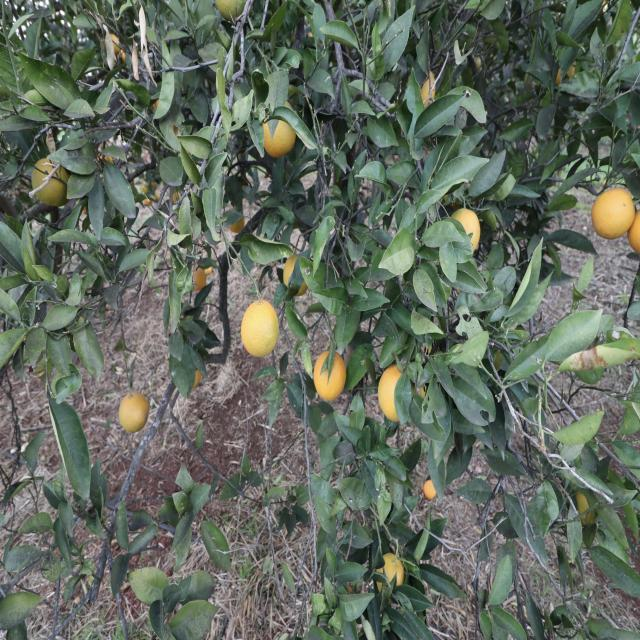Jeruk Belum Matang: (32, 160, 68, 204), (216, 0, 246, 18)
Jeruk Sudah Matang: (241, 297, 280, 358), (593, 188, 635, 238), (262, 100, 298, 157), (312, 352, 346, 402), (378, 364, 403, 420), (118, 390, 149, 433), (452, 206, 480, 251), (378, 553, 404, 596), (284, 254, 308, 294), (420, 70, 437, 106), (628, 212, 640, 256), (192, 269, 205, 290), (423, 481, 437, 498)
